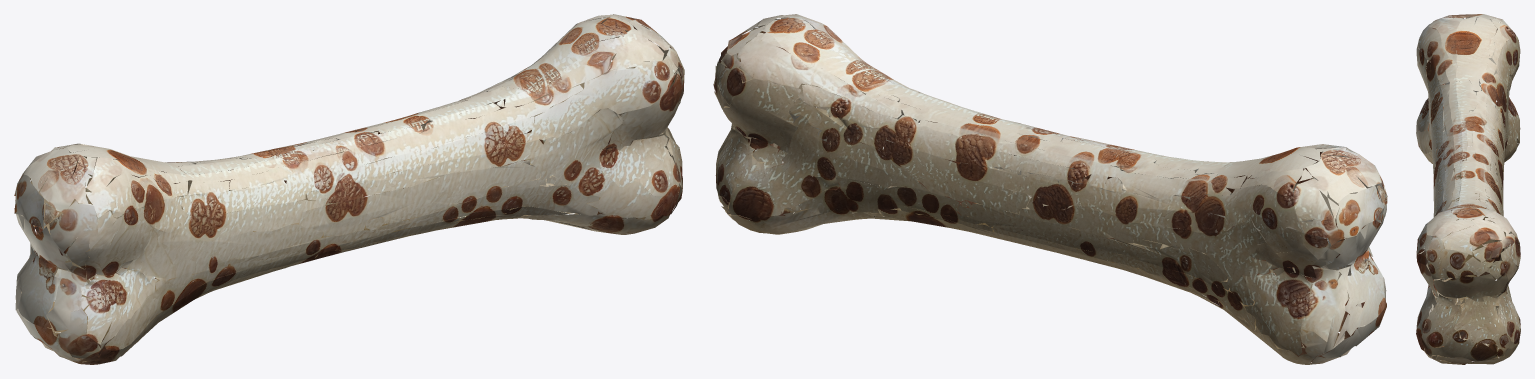
File: P_BoneToy_h6.fbx
3 views of the same model, side by side, from view 1: azimuth 30°, elevation 25°; view 2: azimuth 150°, elevation 25°; view 3: azimuth 270°, elevation 25° (orthographic). The views are drawn at different scales.
Parts seen in each view (by area): view 1: surface_7; view 2: surface_7; view 3: surface_7.
Part boxes in pixels (x1,y1,x2,y2): surface_7: (14, 14, 684, 364); surface_7: (713, 14, 1387, 364); surface_7: (1416, 14, 1520, 364).
Size of the model in its own units: 3.38 by 1 by 0.6372.
1 material, 1 textured.
